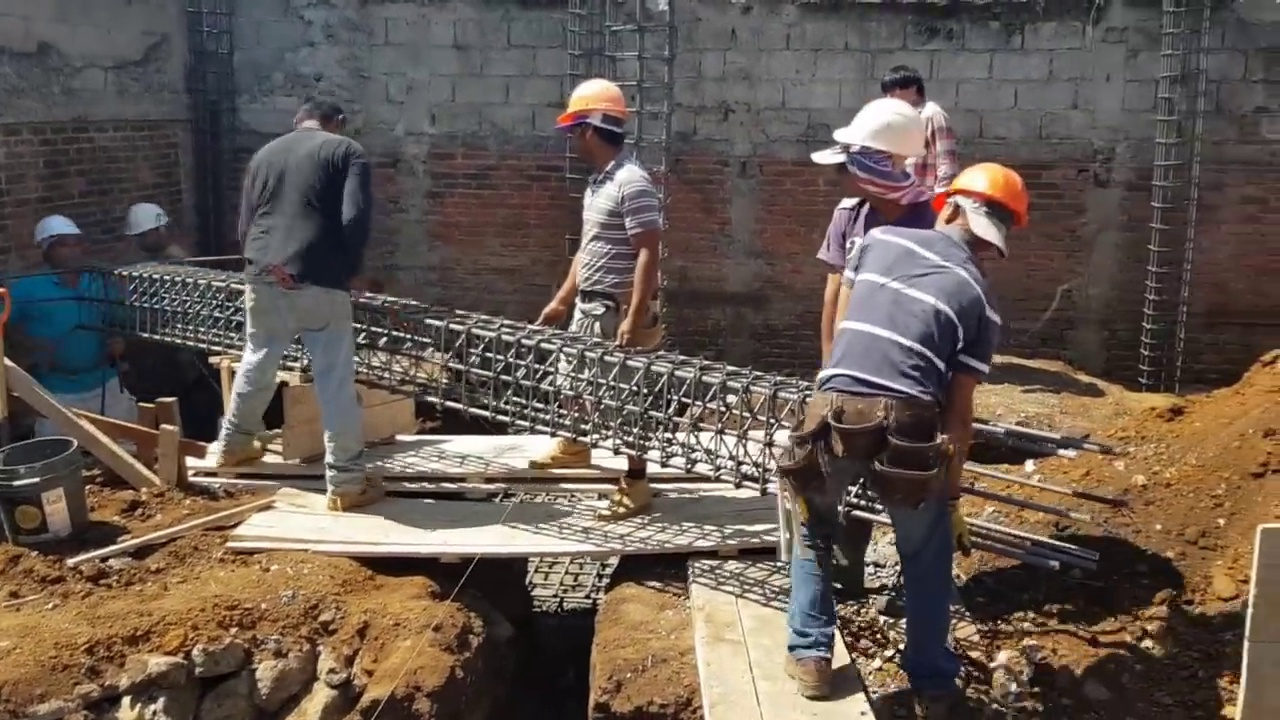helmet: (829, 100, 931, 166), (942, 163, 1032, 230), (553, 79, 630, 135), (121, 201, 169, 239), (34, 215, 80, 246)
helmet-off: (882, 62, 931, 108), (284, 99, 333, 137)
helmet-on: (833, 104, 932, 209), (932, 160, 1030, 262), (554, 80, 629, 174), (26, 213, 89, 279), (115, 198, 170, 253)
person: (782, 136, 1031, 683), (216, 97, 389, 522), (528, 75, 666, 521), (812, 80, 944, 367), (8, 217, 126, 465), (114, 201, 190, 436), (881, 63, 959, 197)
